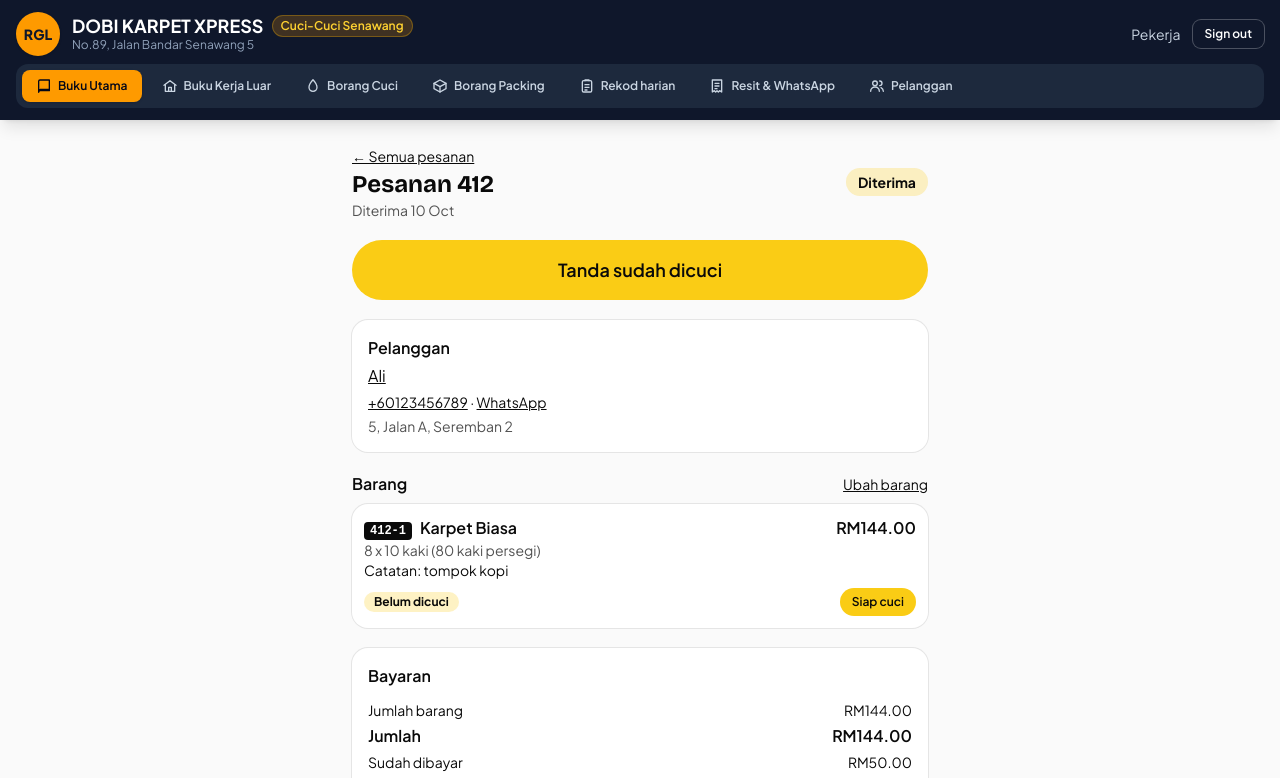
Scenario: back office › shows the server explanation when a change is refused
Click the button "Tanda sudah dicuci".
click(640, 270)  # box [352, 240, 928, 300]
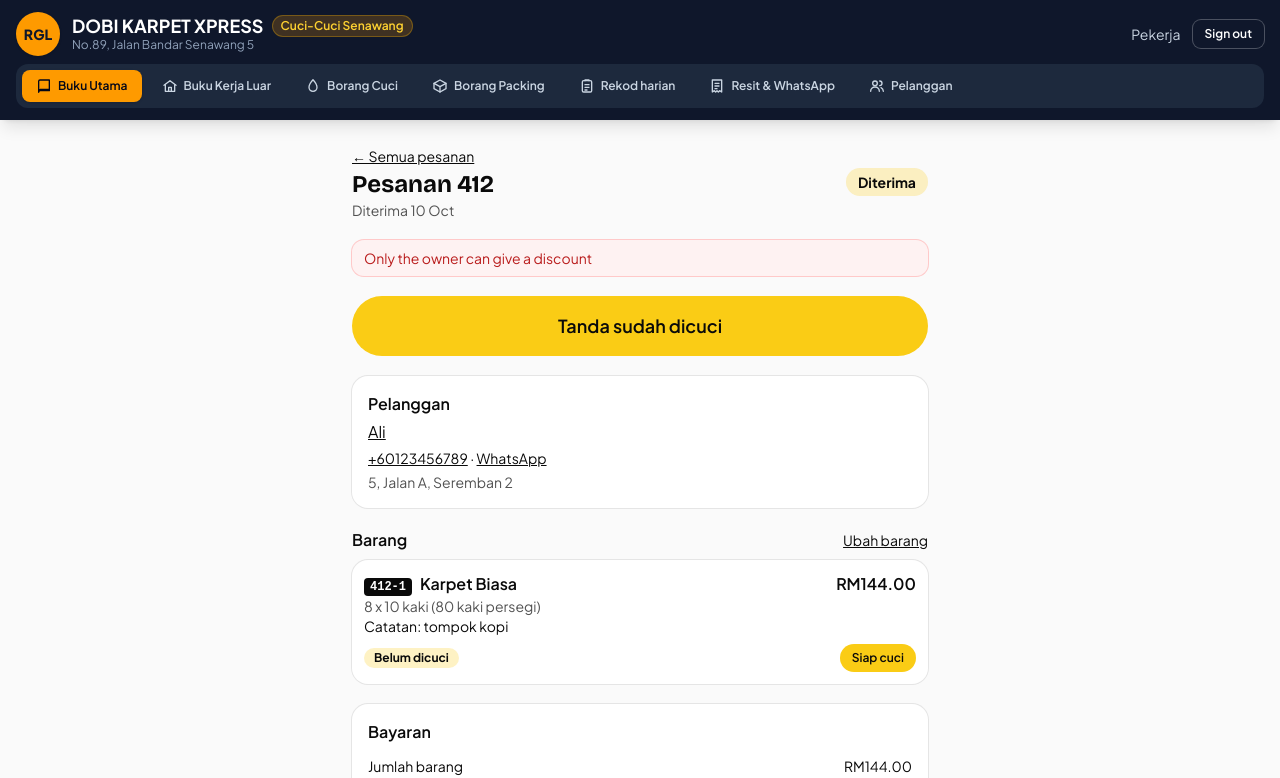
Expected: the message reads "Only the owner can give a discount", [364, 249, 592, 267]
